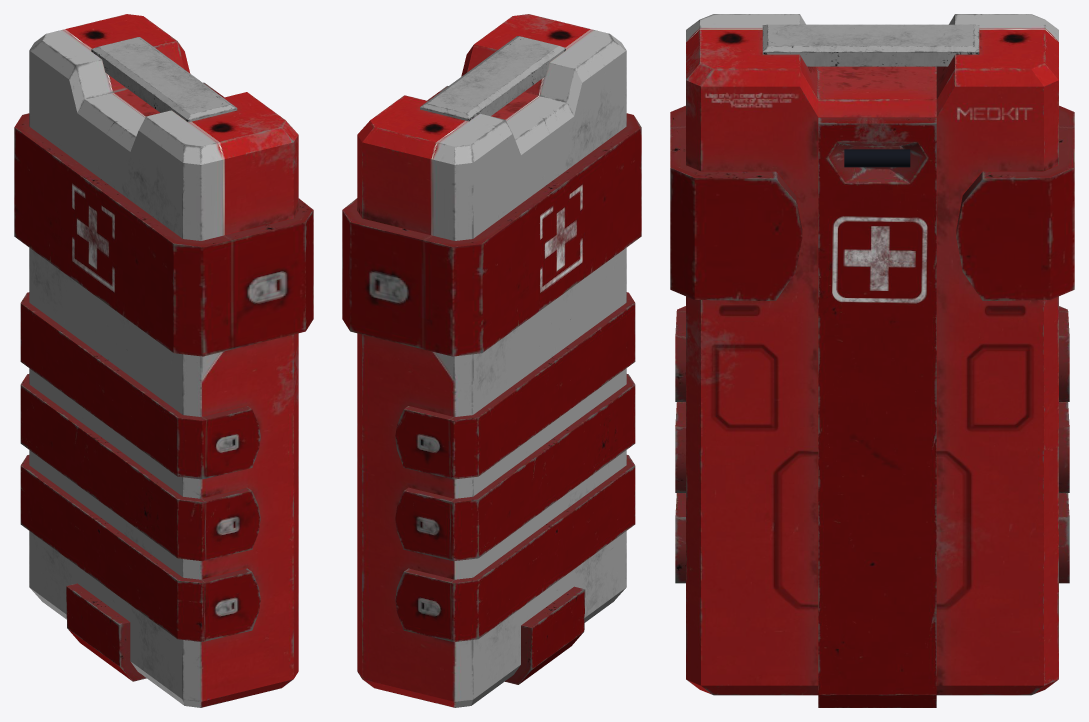
File: medkit.fbx
The picture shows the model from 3 angles, left to right: view 1: azimuth 30°, elevation 25°; view 2: azimuth 150°, elevation 25°; view 3: azimuth 270°, elevation 25°; orthographic projection. The views are drawn at different scales.
Parts seen in each view (by area): view 1: defaultMaterial, defaultMaterial.001; view 2: defaultMaterial, defaultMaterial.001; view 3: defaultMaterial.001, defaultMaterial.
Boxes of the visible parts, box(x1,y1,x2,y2) form: defaultMaterial: box(14, 37, 313, 681); defaultMaterial.001: box(29, 14, 298, 707); defaultMaterial: box(342, 36, 641, 684); defaultMaterial.001: box(357, 14, 626, 707); defaultMaterial.001: box(686, 14, 1058, 695); defaultMaterial: box(670, 24, 1074, 707).
Size of the model in its own units: 53.04 by 200 by 114.
